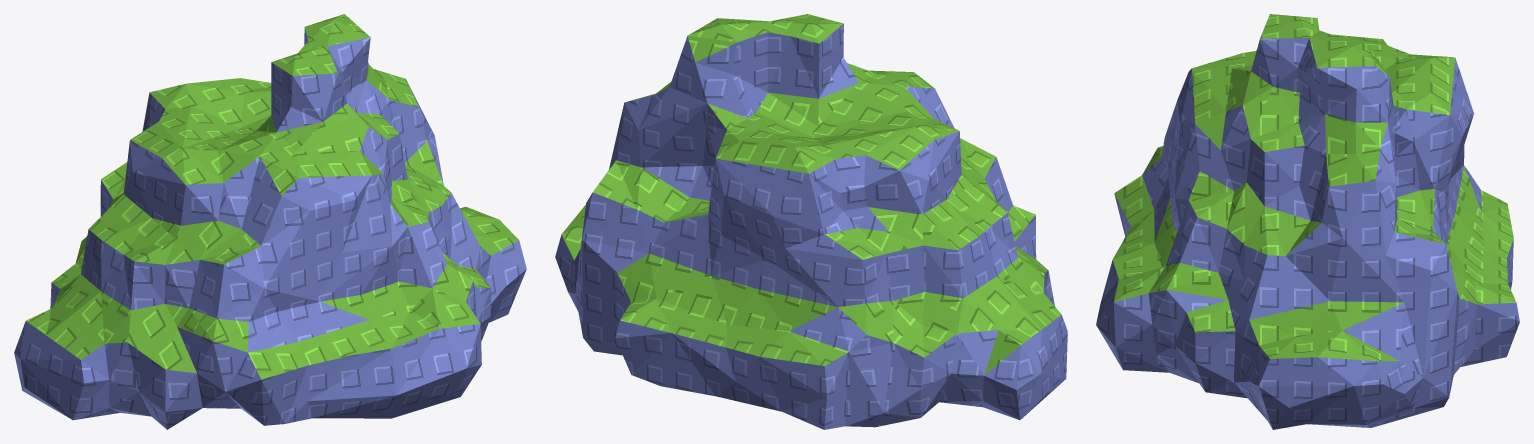
The model's file is LedgeRock.glb.
The picture shows the model from 3 angles, left to right: view 1: azimuth 30°, elevation 25°; view 2: azimuth 150°, elevation 25°; view 3: azimuth 270°, elevation 25°; orthographic projection. The views are drawn at different scales.
Parts seen in each view (by area): view 1: LedgeRock_Rock, LedgeRock_Top; view 2: LedgeRock_Rock, LedgeRock_Top; view 3: LedgeRock_Rock, LedgeRock_Top.
Part boxes in pixels (bbox=[...]): LedgeRock_Rock: bbox=[14, 28, 526, 429]; LedgeRock_Top: bbox=[26, 14, 518, 379]; LedgeRock_Rock: bbox=[555, 24, 1067, 429]; LedgeRock_Top: bbox=[561, 14, 1061, 375]; LedgeRock_Rock: bbox=[1096, 38, 1519, 429]; LedgeRock_Top: bbox=[1112, 14, 1516, 361].
Size of the model in its own units: 16.53 by 10.81 by 12.44.
2 materials, 2 textured.
